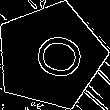O_W: (19, 28, 82, 84)
